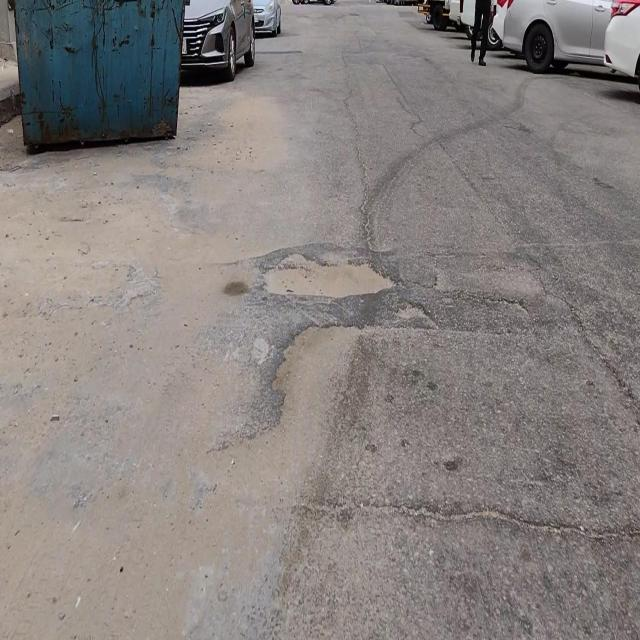Pothole: (264, 253, 389, 301)
